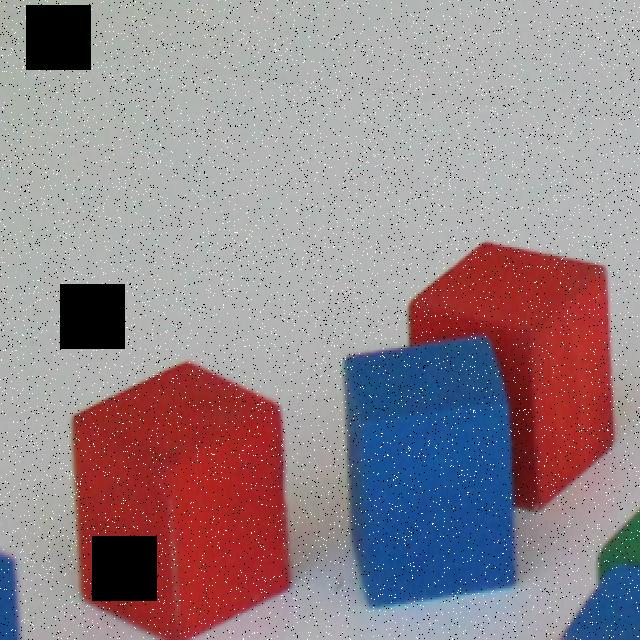bluecube: (343, 332, 515, 613)
red cube: (73, 351, 288, 640), (409, 240, 617, 511)
